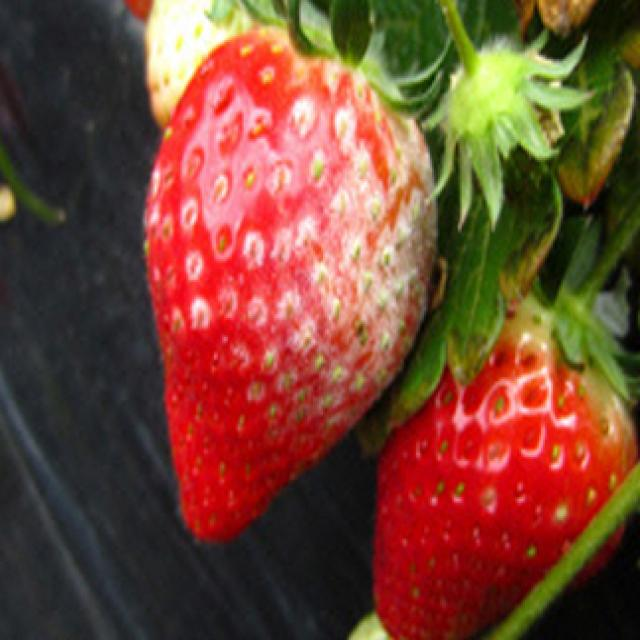Powdery Mildew Fruit: (142, 25, 443, 452)
